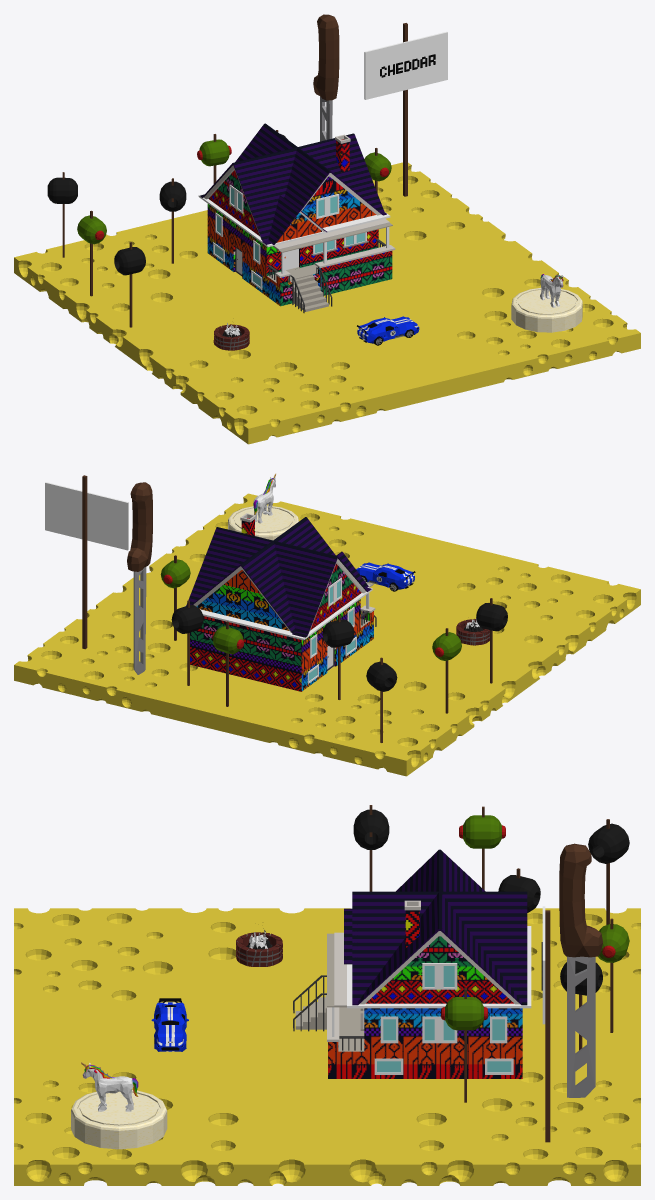
3 renders of one model, top to bottom at view 1: azimuth 30°, elevation 25°; view 2: azimuth 150°, elevation 25°; view 3: azimuth 270°, elevation 25°, orthographic. The views are drawn at different scales.
Parts seen in each view (by area): view 1: Cube.022, Cube.966, Cube.023, Cylinder.016, Cube.024, VEHICLES_RACING_CAR, Sphere.017, Sphere.016, Sphere.020, OBJRANDOM_CAMPFIRE, Sphere.018, Sphere.022 (+1 smaller); view 2: Cube.022, Cube.966, Cube.023, Cube.024, Cylinder.016, VEHICLES_RACING_CAR, Sphere.020, Sphere.017, Sphere.021, Sphere.018, Sphere.016, Sphere.022 (+3 smaller); view 3: Cube.022, Cube.966, Cube.024, Cylinder.016, Cube.023, VEHICLES_RACING_CAR, Sphere.019, Sphere.016, OBJRANDOM_CAMPFIRE, Sphere.018, Sphere.017, ANIMAL_UNICORNIO (+3 smaller).
Boxes of the visible parts, bbox=[...] form: Cube.022: bbox=[14, 162, 640, 444]; Cube.966: bbox=[198, 123, 395, 313]; Cube.023: bbox=[364, 23, 447, 196]; Cylinder.016: bbox=[511, 287, 582, 332]; Cube.024: bbox=[313, 14, 339, 141]; VEHICLES_RACING_CAR: bbox=[357, 316, 419, 345]; Sphere.017: bbox=[114, 242, 145, 327]; Sphere.016: bbox=[47, 172, 77, 257]; Sphere.020: bbox=[159, 178, 186, 263]; OBJRANDOM_CAMPFIRE: bbox=[213, 323, 249, 350]; Sphere.018: bbox=[77, 210, 106, 296]; Sphere.022: bbox=[197, 134, 231, 183]; Cube.022: bbox=[14, 493, 640, 776]; Cube.966: bbox=[185, 513, 376, 691]; Cube.023: bbox=[45, 475, 128, 649]; Cube.024: bbox=[127, 482, 152, 674]; Cylinder.016: bbox=[228, 505, 298, 540]; VEHICLES_RACING_CAR: bbox=[356, 562, 415, 591]; Sphere.020: bbox=[322, 614, 354, 699]; Sphere.017: bbox=[476, 598, 507, 683]; Sphere.021: bbox=[171, 600, 203, 685]; Sphere.018: bbox=[432, 628, 461, 713]; Sphere.016: bbox=[366, 657, 397, 742]; Sphere.022: bbox=[212, 621, 244, 706]; Cube.022: bbox=[14, 908, 640, 1185]; Cube.966: bbox=[293, 849, 531, 1078]; Cube.024: bbox=[559, 843, 602, 1097]; Cylinder.016: bbox=[71, 1090, 167, 1149]; Cube.023: bbox=[541, 906, 550, 1142]; VEHICLES_RACING_CAR: bbox=[151, 998, 188, 1051]; Sphere.019: bbox=[441, 988, 487, 1102]; Sphere.016: bbox=[588, 819, 629, 924]; OBJRANDOM_CAMPFIRE: bbox=[236, 928, 282, 966]; Sphere.018: bbox=[459, 806, 505, 889]; Sphere.017: bbox=[353, 805, 389, 891]; ANIMAL_UNICORNIO: bbox=[81, 1062, 138, 1111].
Size of the model in its own units: 3917 by 2030 by 4000.
Materials: 48 (8 with a texture image).
